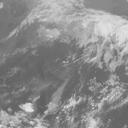cyclone: (37, 32, 97, 104)
